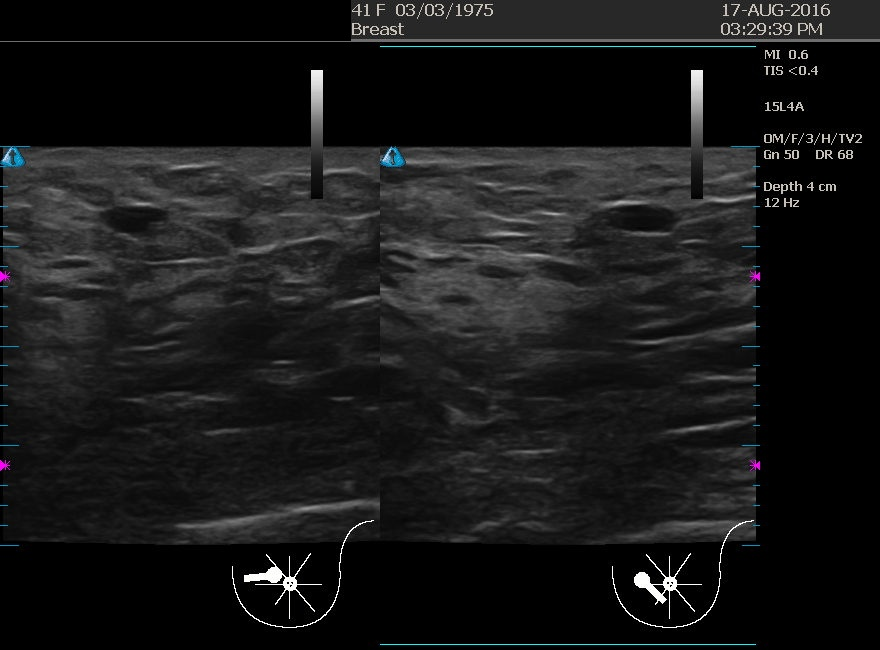BIRADS_2: (488, 151, 688, 351), (31, 157, 231, 357)
